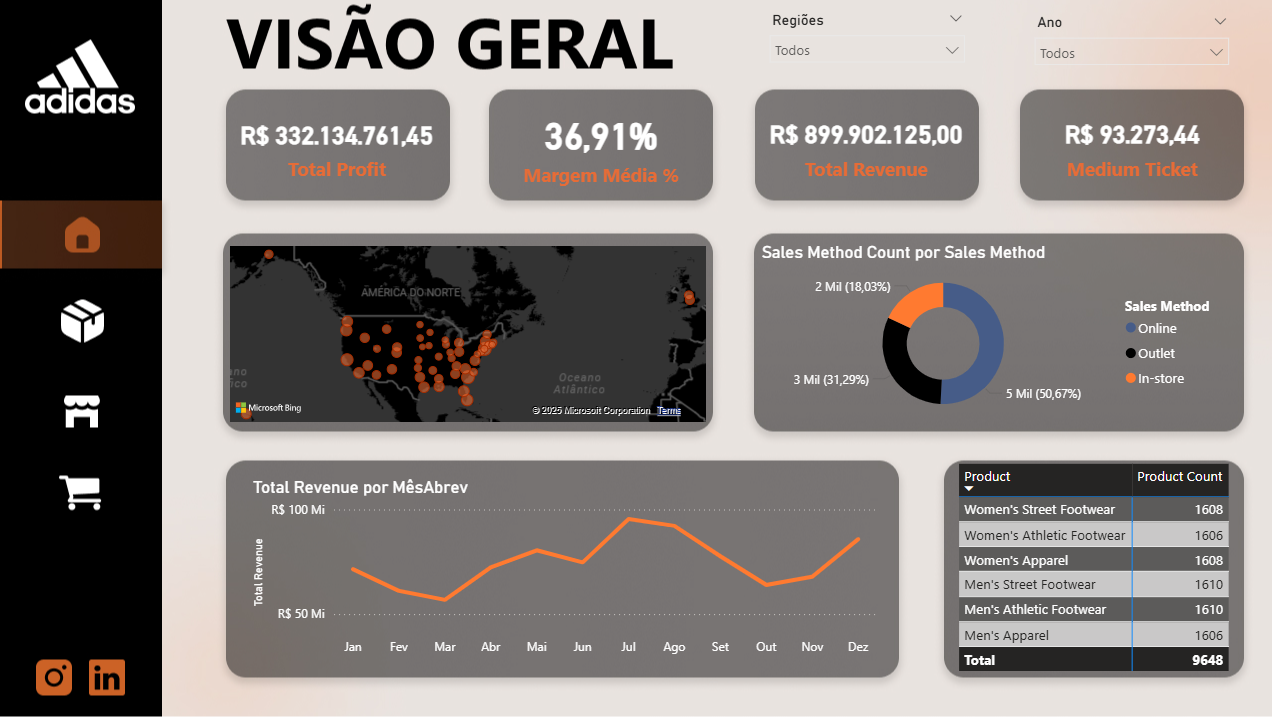

What the dashboard file says about the page in this screenshot:
{"tool":"powerbi","page":{"name":"Visão Geral","canvas":[1280,720],"ordinal":1},"visuals":[{"type":"lineChart","fields":{"Y":["Medidas.Total Revenue"],"Category":["Datas.MêsAbrev"]},"box":[250,477.5,633.8,188.8],"z":0},{"type":"pivotTable","fields":{"Values":["Medidas.Product Count"],"Rows":["Data Sales Adidas.Product"]},"box":[956,460,290,241],"z":1000},{"type":"donutChart","fields":{"Category":["Data Sales Adidas.Sales Method"],"Y":["Medidas.Sales Method Count"]},"box":[758.8,242.5,476.2,185],"z":2000},{"type":"map","fields":{"Size":["Medidas.Total Revenue"],"Category":["Data Sales Adidas.City"]},"box":[227.8,242.2,485.6,185.6],"z":3000},{"type":"slicer","fields":{"Values":["Data Sales Adidas.Region"]},"box":[761.4,7.1,215.7,85.7],"z":4000},{"type":"card","fields":{"Values":["Medidas.Margem Média %"]},"box":[492,94,221.3,106],"z":5000},{"type":"card","fields":{"Values":["Medidas.Medium Ticket"]},"box":[1022,94,224,108],"z":6000},{"type":"card","fields":{"Values":["Medidas.Total Profit"]},"box":[227.5,95,223.3,105.8],"z":7000},{"type":"card","fields":{"Values":["Medidas.Total Revenue"]},"box":[759.2,93.8,219.2,107.7],"z":8000},{"type":"slicer","fields":{"Values":["Data Sales Adidas.Ano"]},"box":[1026.7,10,215,84.2],"z":9000},{"type":"actionButton","box":[88.9,656.7,42.2,44.4],"z":10000},{"type":"actionButton","box":[35.6,656.7,42.2,44.4],"z":11000},{"type":"actionButton","box":[0,294.4,164.4,50],"z":12000},{"type":"actionButton","box":[0,385.6,164.4,50],"z":13000},{"type":"actionButton","box":[0,465.6,164.4,50],"z":14000}]}

Visuals, with their boxes in screenshot pixels (x1, y1, x2, y2), scaled from the page's 1280x720 canvas onto the 1272x717 screenshot:
lineChart - Medidas.Total Revenue x Datas.MêsAbrev: <box>248,476,878,664</box>
pivotTable - Medidas.Product Count x Data Sales Adidas.Product: <box>950,458,1238,698</box>
donutChart - Data Sales Adidas.Sales Method x Medidas.Sales Method Count: <box>754,241,1227,426</box>
map - Medidas.Total Revenue x Data Sales Adidas.City: <box>226,241,709,426</box>
slicer - Data Sales Adidas.Region: <box>757,7,971,92</box>
card - Medidas.Margem Média %: <box>489,94,709,199</box>
card - Medidas.Medium Ticket: <box>1016,94,1238,201</box>
card - Medidas.Total Profit: <box>226,95,448,200</box>
card - Medidas.Total Revenue: <box>754,93,972,201</box>
slicer - Data Sales Adidas.Ano: <box>1020,10,1234,94</box>
actionButton: <box>88,654,130,698</box>
actionButton: <box>35,654,77,698</box>
actionButton: <box>0,293,163,343</box>
actionButton: <box>0,384,163,434</box>
actionButton: <box>0,464,163,513</box>
